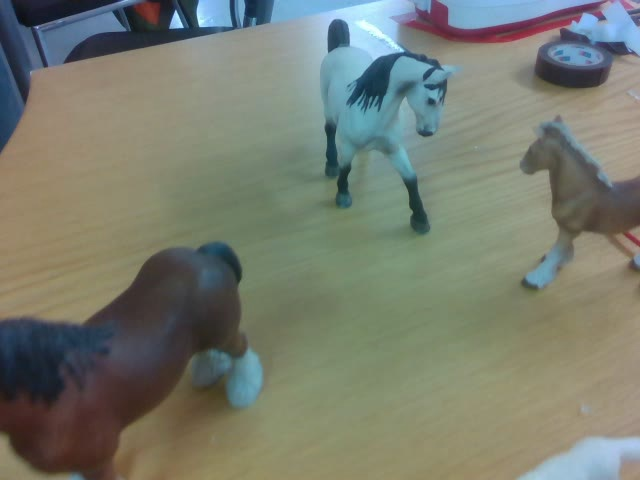toy: (318, 18, 464, 233)
